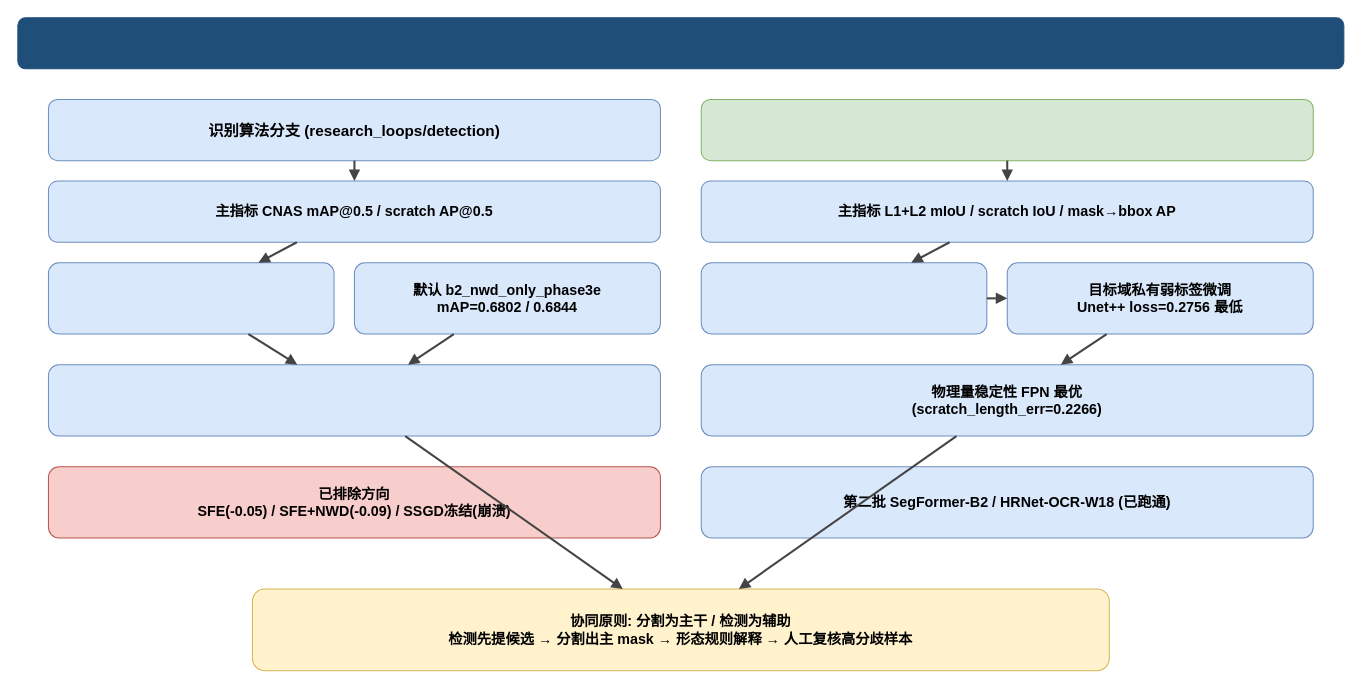
Image size: 1362x689. Some labels were removed from this diagram. The shapes that lost their labels are listed below. From the top down, each one's centre as x and y in pixels, then its label:
At (680,43): "识别算法分支 vs 分割算法分支 双主线并行推进".
At (1006,129): "分割算法分支 (research_loops/segmentation)".
At (190,298): "基线 stage2_cleaned mAP=0.6765".
At (843,298): "源域 MSD 预训练 FPN=0.8787 / DLv3+=0.8669".
At (353,400): "当前研究方向 NWD-only 复验 + 输入通道增强 + CLAHE 域偏移修复".
